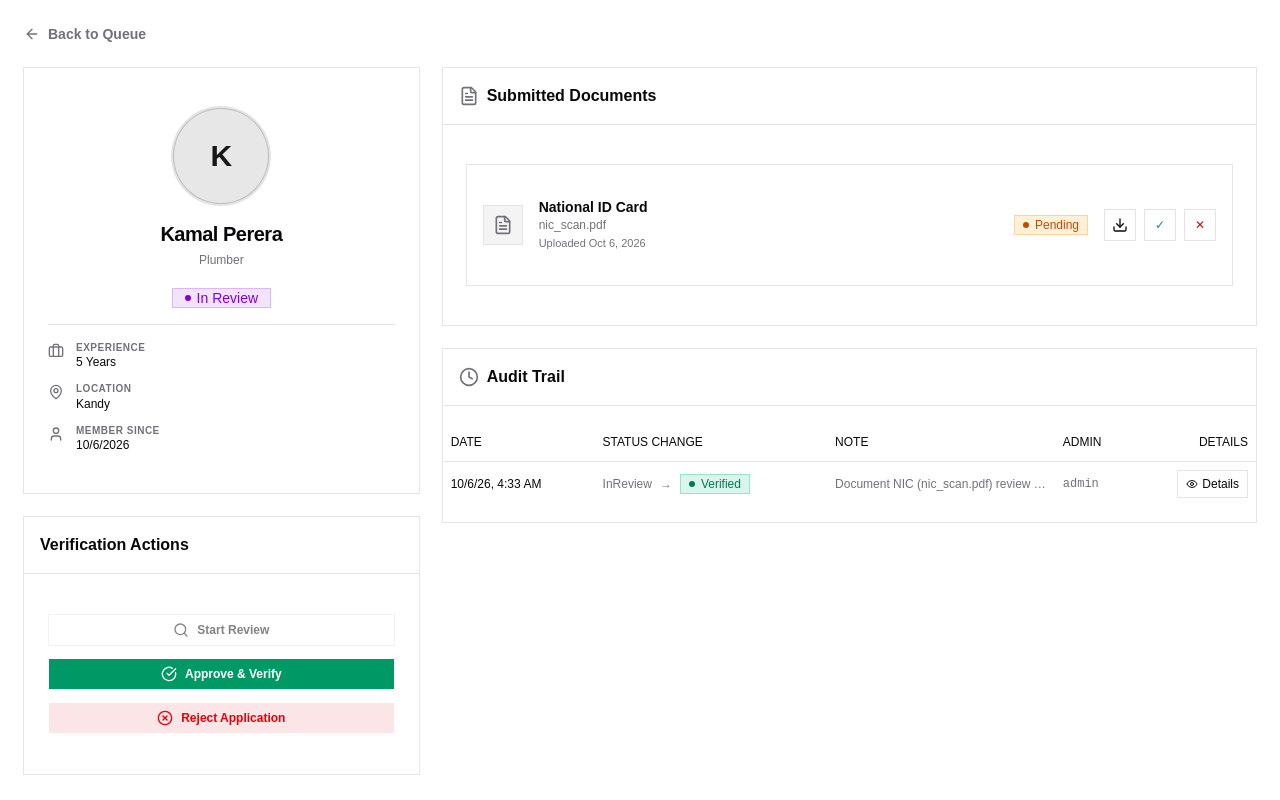
VerificationDetail Component - Document Review with Note › renders compact audit table with nowrap note field and opens details modal upon clicking Details
The image size is (1280, 800).
Expected: the text "Audit Trail" is shown, [487, 365, 565, 389]
Expected: the text "Perfect identification copy" is shown, [835, 477, 1256, 491]
# Click Details button
What coordinates should you click on to do the following:
click the button "Details"
I would click on:
 (1213, 484)
Its box is [1177, 470, 1248, 498].
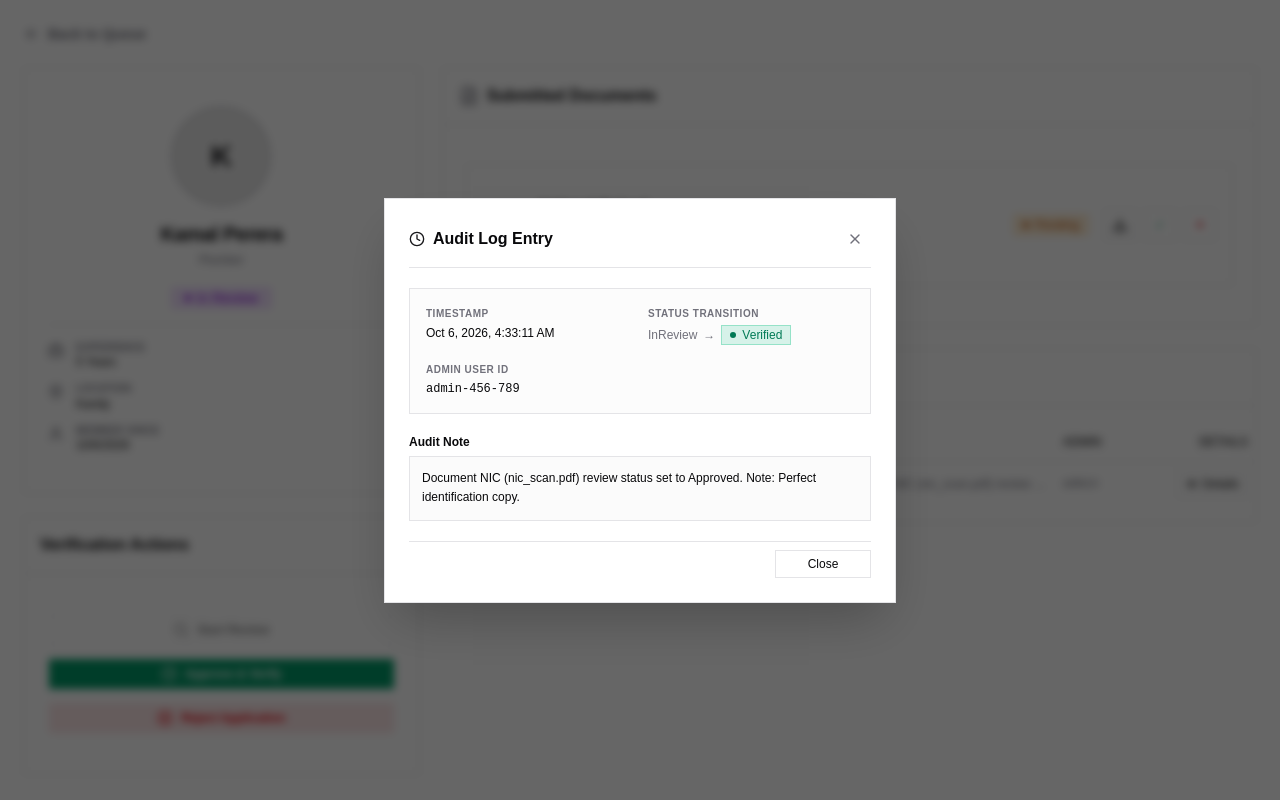
Now the heading "Audit Log Entry" is shown, box [409, 226, 553, 250]
Now the text "admin-456-789" is shown, box [426, 382, 520, 396]
# Close button dismisses modal
What coordinates should you click on to do the following:
click the button named "Close"
I would click on:
 (855, 238)
Its box is [839, 222, 871, 254].
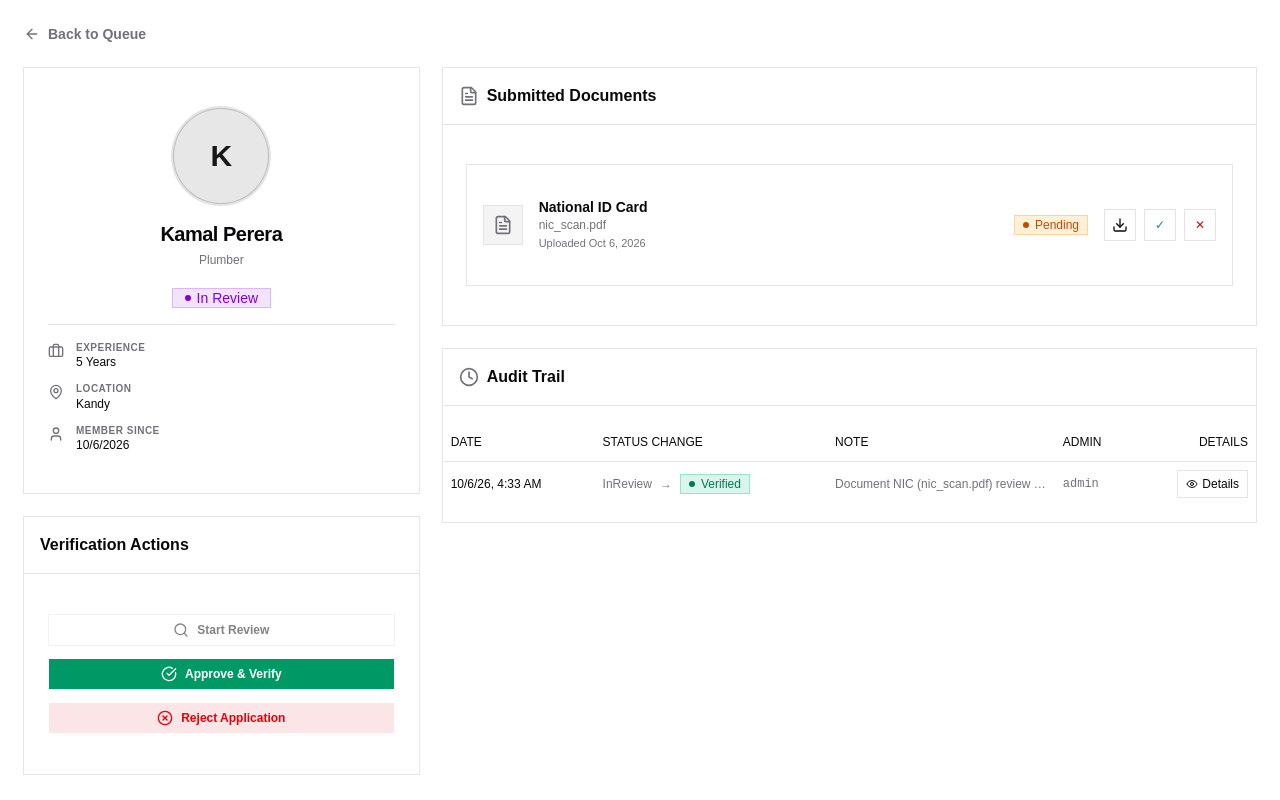
Now the heading "Audit Log Entry" is gone
